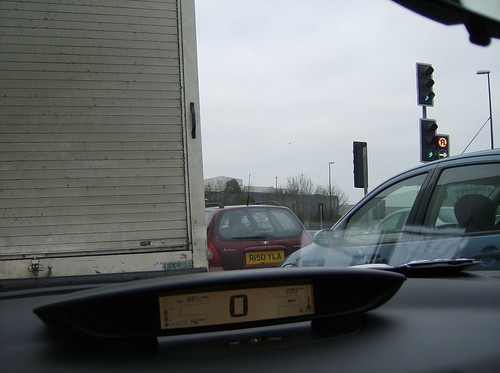car: (284, 155, 500, 269), (206, 203, 312, 271)
sky: (201, 1, 489, 176)
truck: (1, 1, 208, 272)
